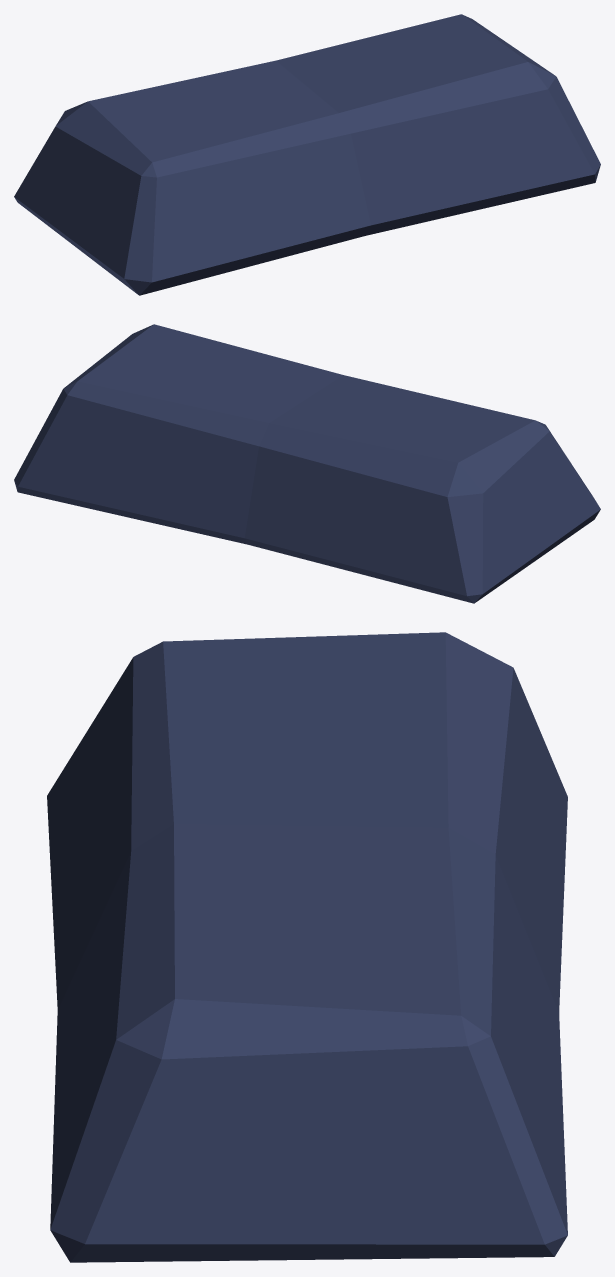
File: Bar Iron 02.fbx
3 renders of one model, top to bottom at view 1: azimuth 30°, elevation 25°; view 2: azimuth 150°, elevation 25°; view 3: azimuth 270°, elevation 25°, orthographic. The views are drawn at different scales.
Parts seen in each view (by area): view 1: Bar Iron 02; view 2: Bar Iron 02; view 3: Bar Iron 02.
Boxes of the visible parts, x1,y1,x2,y2 form: Bar Iron 02: (14,14,600,295); Bar Iron 02: (14,324,600,603); Bar Iron 02: (47,632,567,1262).
Size of the model in its own units: 51.03 by 11.82 by 24.22.
